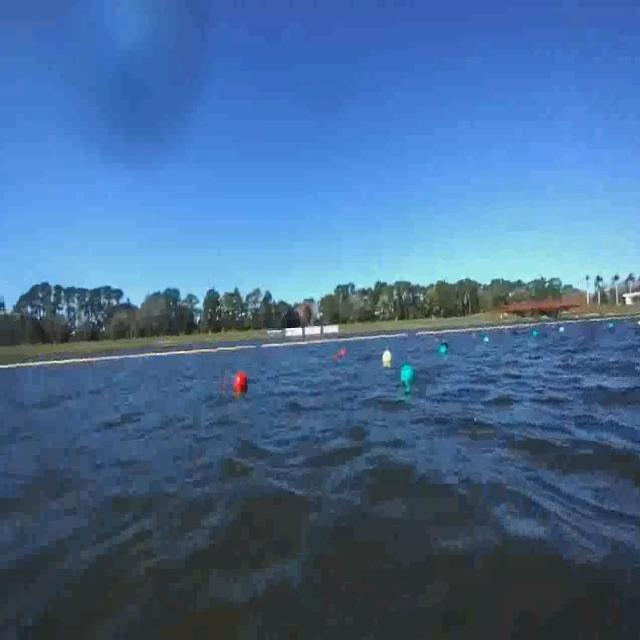green-buoy: (403, 363, 416, 385), (440, 345, 449, 357)
red-buoy: (236, 373, 248, 395)
